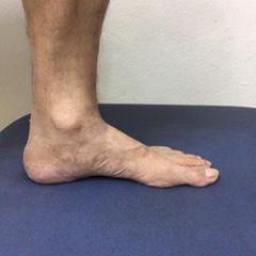Medial View -Left Foot-: (17, 81, 223, 198)
